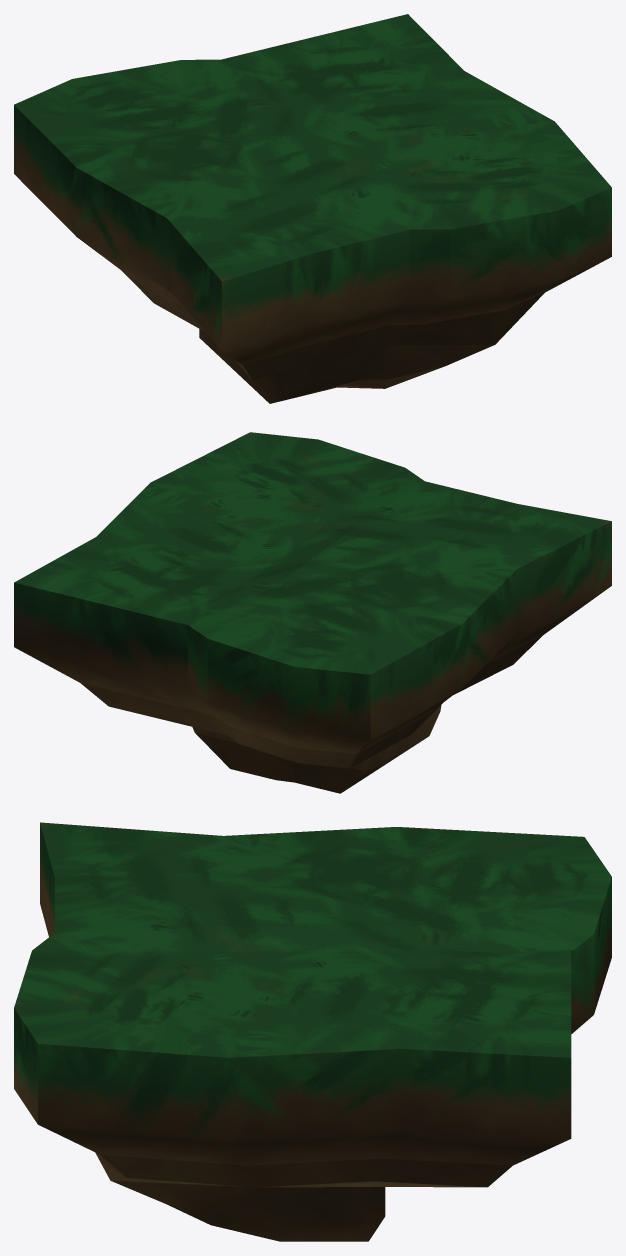
File: Fantasy_MID1_Forest_Platform_Unchecked_ME.fbx
The picture shows the model from 3 angles, top to bottom: view 1: azimuth 30°, elevation 25°; view 2: azimuth 150°, elevation 25°; view 3: azimuth 270°, elevation 25°; orthographic projection. The views are drawn at different scales.
Visible parts, largest first — view 1: ForestMid1; view 2: ForestMid1; view 3: ForestMid1.
Part boxes in pixels (x1,y1,x2,y2): ForestMid1: (14, 14, 611, 403); ForestMid1: (14, 432, 611, 793); ForestMid1: (14, 822, 611, 1241).
Size of the model in its own units: 134 by 144 by 72.24.
Materials: 1 (1 with a texture image).
